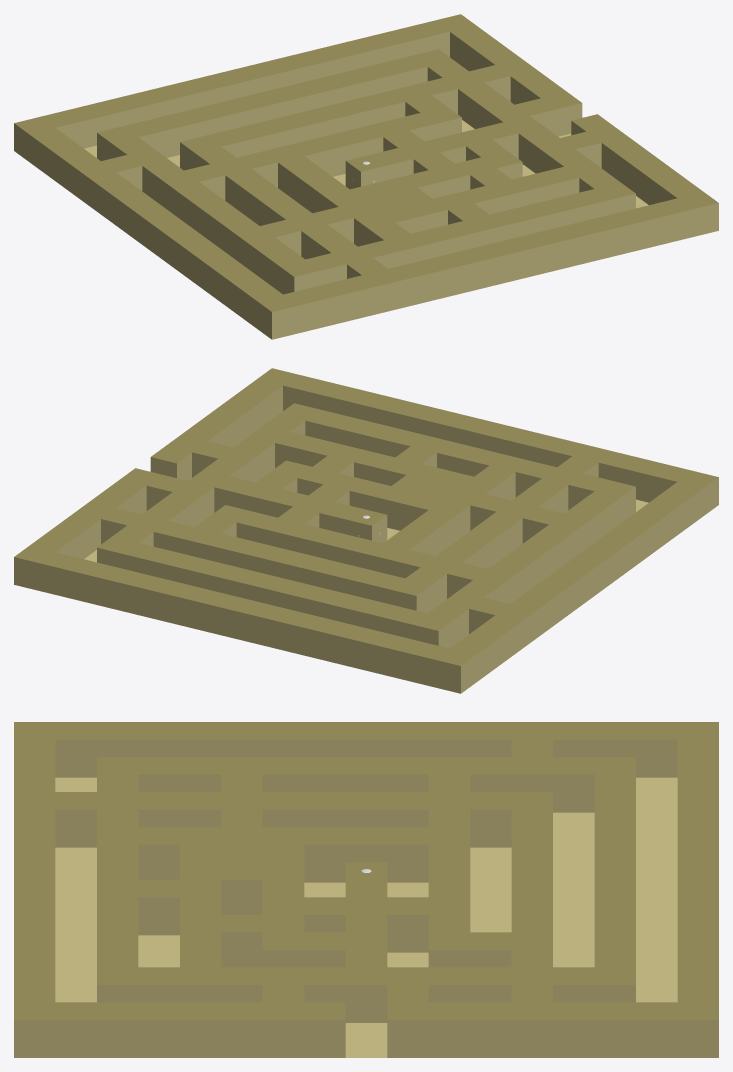
Rendered from lvl1.fbx.
3 renders of one model, top to bottom at view 1: azimuth 30°, elevation 25°; view 2: azimuth 150°, elevation 25°; view 3: azimuth 270°, elevation 25°, orthographic. The views are drawn at different scales.
Parts seen in each view (by area): view 1: Plane.001, Plane; view 2: Plane.001, Plane; view 3: Plane.001, Plane.
Part boxes in pixels (x1,y1,x2,y2): Plane.001: [14, 14, 718, 339]; Plane: [101, 60, 579, 285]; Plane.001: [14, 368, 718, 693]; Plane: [112, 432, 609, 634]; Plane.001: [14, 722, 718, 1057]; Plane: [97, 722, 594, 1002].
Bounding box in the file's own units: 1600 × 96.5 × 1600.
